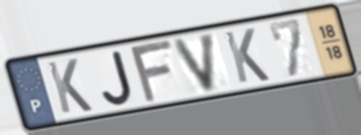7: (266, 17, 305, 80)
F: (128, 37, 176, 106)
J: (100, 48, 136, 107)
K: (221, 26, 272, 86), (44, 57, 95, 116)
V: (170, 29, 218, 95)
